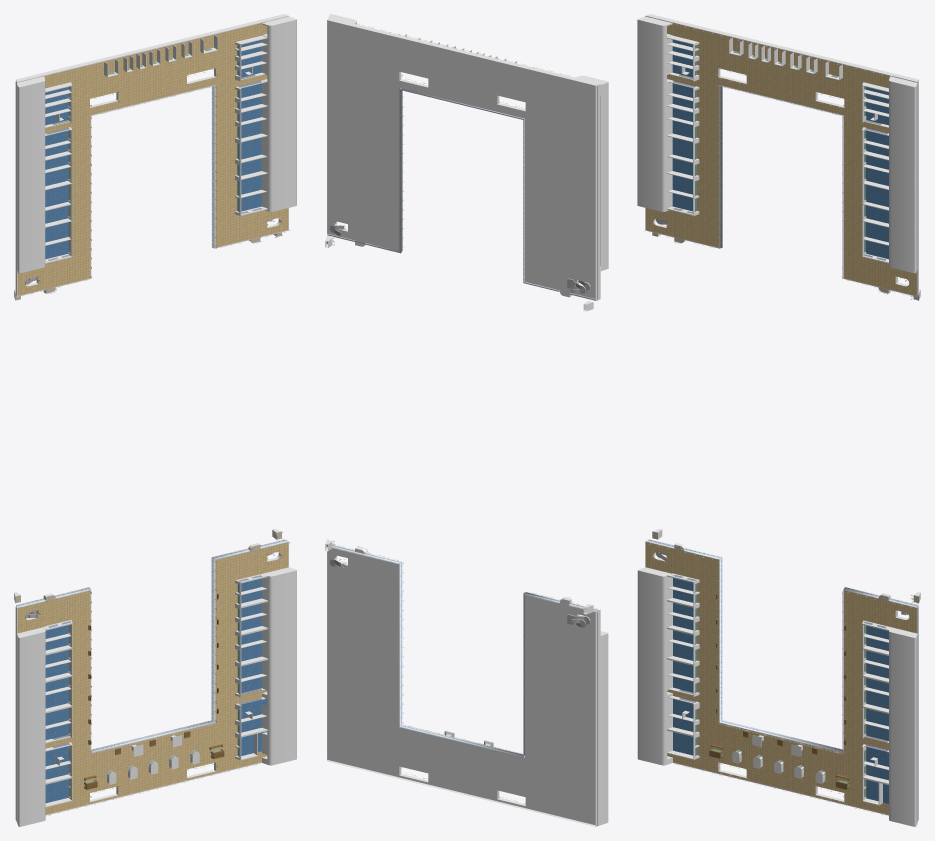
The model's file is 6_3F_DepartUp.gltf.
3 views of the same model, side by side, from view 1: azimuth 30°, elevation 25°; view 2: azimuth 150°, elevation 25°; view 3: azimuth 330°, elevation 25° (orthographic).
Parts seen in each view (by area): view 1: SM_3F_MainFloor, SM_3F_ShopBuildings, SM_3F_BuiMisc, SM_3F_Platform_Side, SM_3F_SubBuil, SM_3F_FenceTrans; view 2: SM_3F_MainFloor, SM_3F_BuiMisc, SM_3F_Platform_Side, SM_3F_ShopBuildings; view 3: SM_3F_MainFloor, SM_3F_ShopBuildings, SM_3F_BuiMisc, SM_3F_Platform_Side, SM_3F_SubBuil, SM_3F_FenceTrans.
Boxes of the visible parts, x1,y1,x2,y2 form: SM_3F_MainFloor: (15, 23, 288, 820); SM_3F_ShopBuildings: (16, 16, 296, 826); SM_3F_BuiMisc: (14, 14, 288, 821); SM_3F_Platform_Side: (16, 85, 288, 752); SM_3F_SubBuil: (84, 594, 224, 789); SM_3F_FenceTrans: (20, 23, 289, 815); SM_3F_MainFloor: (327, 20, 598, 825); SM_3F_BuiMisc: (325, 17, 600, 826); SM_3F_Platform_Side: (327, 88, 599, 758); SM_3F_ShopBuildings: (328, 14, 608, 824); SM_3F_MainFloor: (646, 23, 918, 820); SM_3F_ShopBuildings: (637, 16, 917, 826); SM_3F_BuiMisc: (645, 14, 920, 821); SM_3F_Platform_Side: (646, 86, 918, 752); SM_3F_SubBuil: (709, 594, 849, 789); SM_3F_FenceTrans: (649, 24, 918, 814).
Bounding box in the file's own units: 156 × 395 × 13.44.
Materials: 14 (7 with a texture image).
